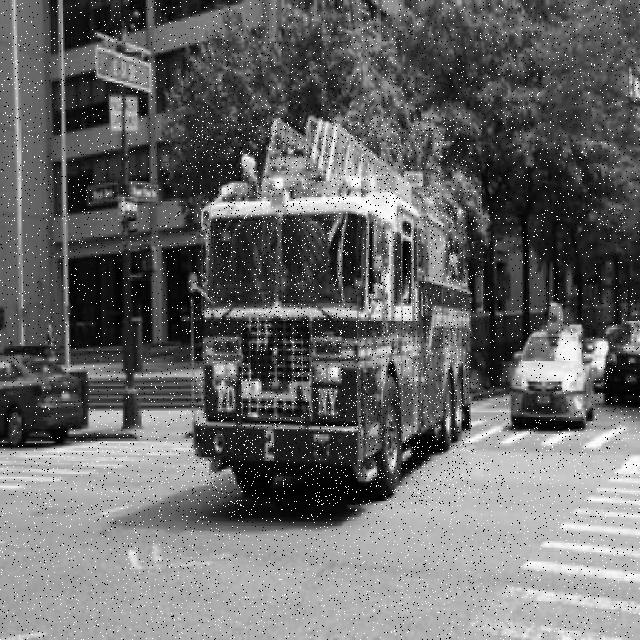Fire Truck: (192, 117, 472, 506)
